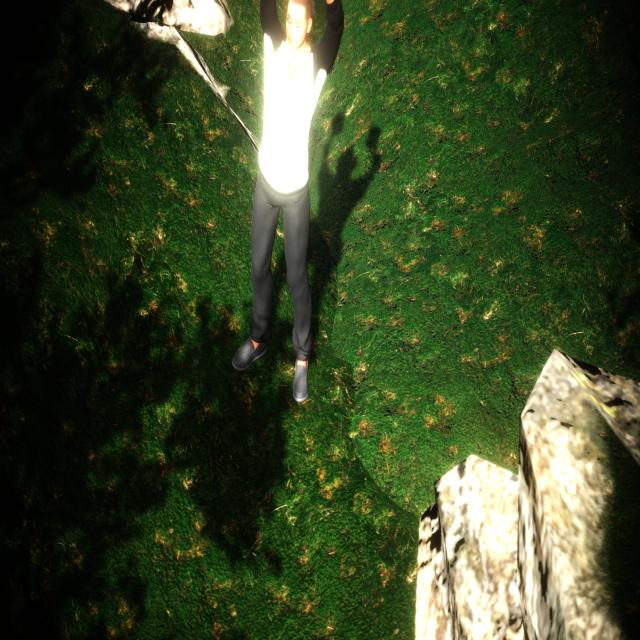Human: (224, 0, 351, 407)
